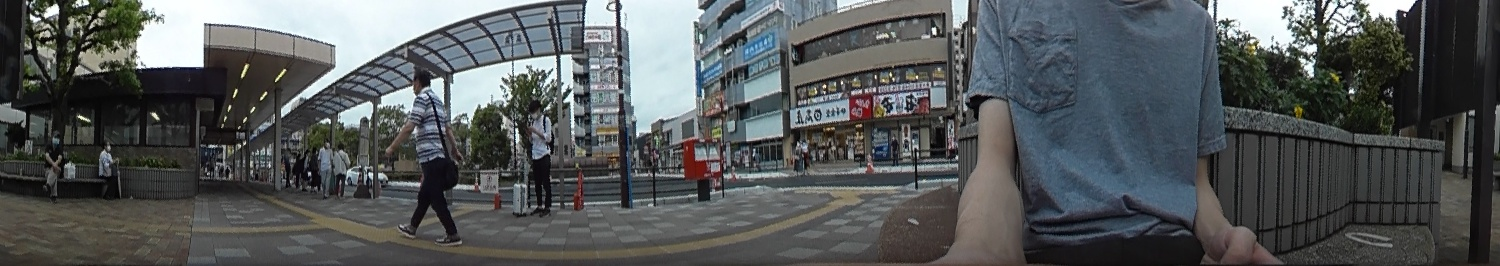difficult_person: (334, 141, 350, 196), (323, 140, 334, 195), (310, 145, 319, 193), (302, 148, 311, 185), (889, 135, 899, 164), (293, 152, 301, 188)
person: (399, 68, 460, 244), (524, 98, 559, 211), (99, 136, 122, 198), (43, 131, 62, 202)
